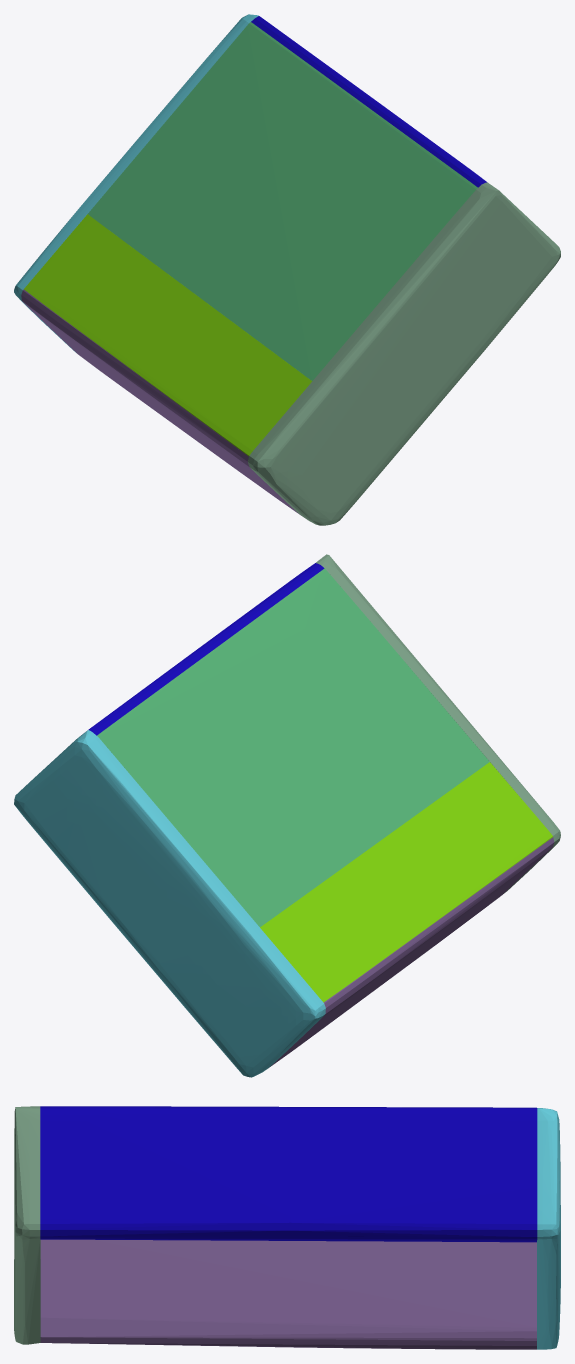
Rendered from bottom_cd.obj.
The picture shows the model from 3 angles, top to bottom: view 1: azimuth 30°, elevation 25°; view 2: azimuth 150°, elevation 25°; view 3: azimuth 270°, elevation 25°; orthographic projection. The views are drawn at different scales.
Parts seen in each view (by area): view 1: geometry_3, geometry_0, geometry_4, geometry_1, geometry_2, geometry_5; view 2: geometry_3, geometry_2, geometry_4, geometry_1, geometry_0, geometry_5; view 3: geometry_5, geometry_1, geometry_0, geometry_2.
Boxes of the visible parts, x1,y1,x2,y2 form: geometry_3: [88, 22, 477, 381]; geometry_0: [248, 182, 560, 525]; geometry_4: [24, 214, 311, 456]; geometry_1: [21, 289, 299, 514]; geometry_2: [14, 14, 258, 352]; geometry_5: [251, 16, 486, 187]; geometry_3: [97, 568, 489, 926]; geometry_2: [14, 730, 325, 1077]; geometry_4: [260, 762, 552, 1002]; geometry_1: [269, 837, 554, 1067]; geometry_0: [316, 554, 560, 893]; geometry_5: [88, 563, 324, 735]; geometry_5: [40, 1106, 537, 1242]; geometry_1: [40, 1239, 536, 1349]; geometry_0: [14, 1106, 40, 1344]; geometry_2: [537, 1108, 560, 1349].
Size of the model in its own units: 244 by 229 by 345.
